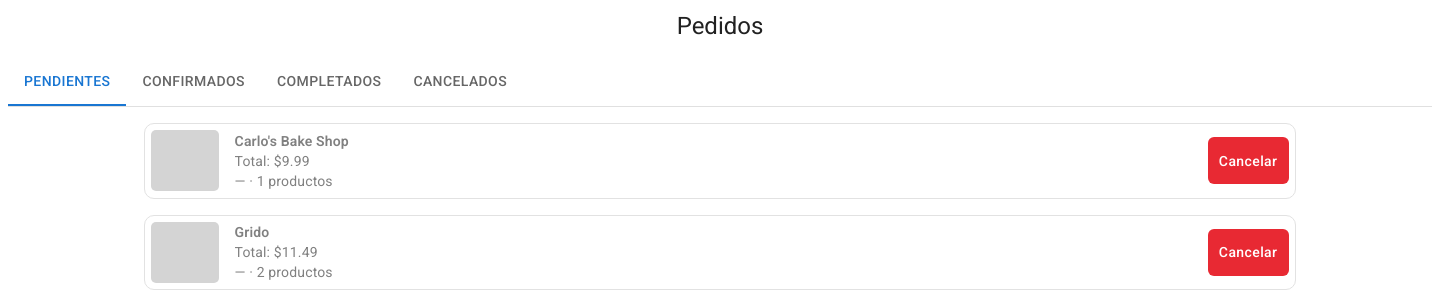
Test case: Pedido tests › Cancelar un pedido pendiente lo elimina del DOM
Click the button "Cancelar" in the row of "Carlo's Bake Shop".
click(1248, 161)  # box [1208,137,1289,184]
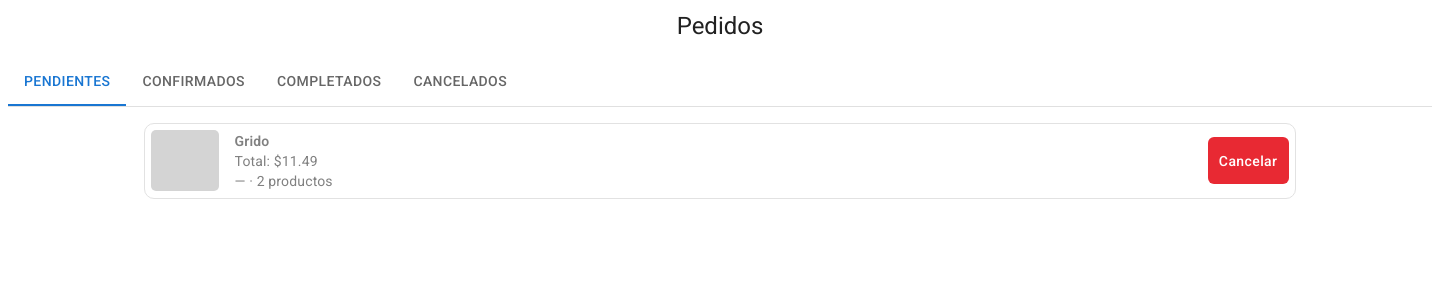
Expected: the text "Grido" is shown, [235,133,269,149]
Now the text "Carlo's Bake Shop" is gone
